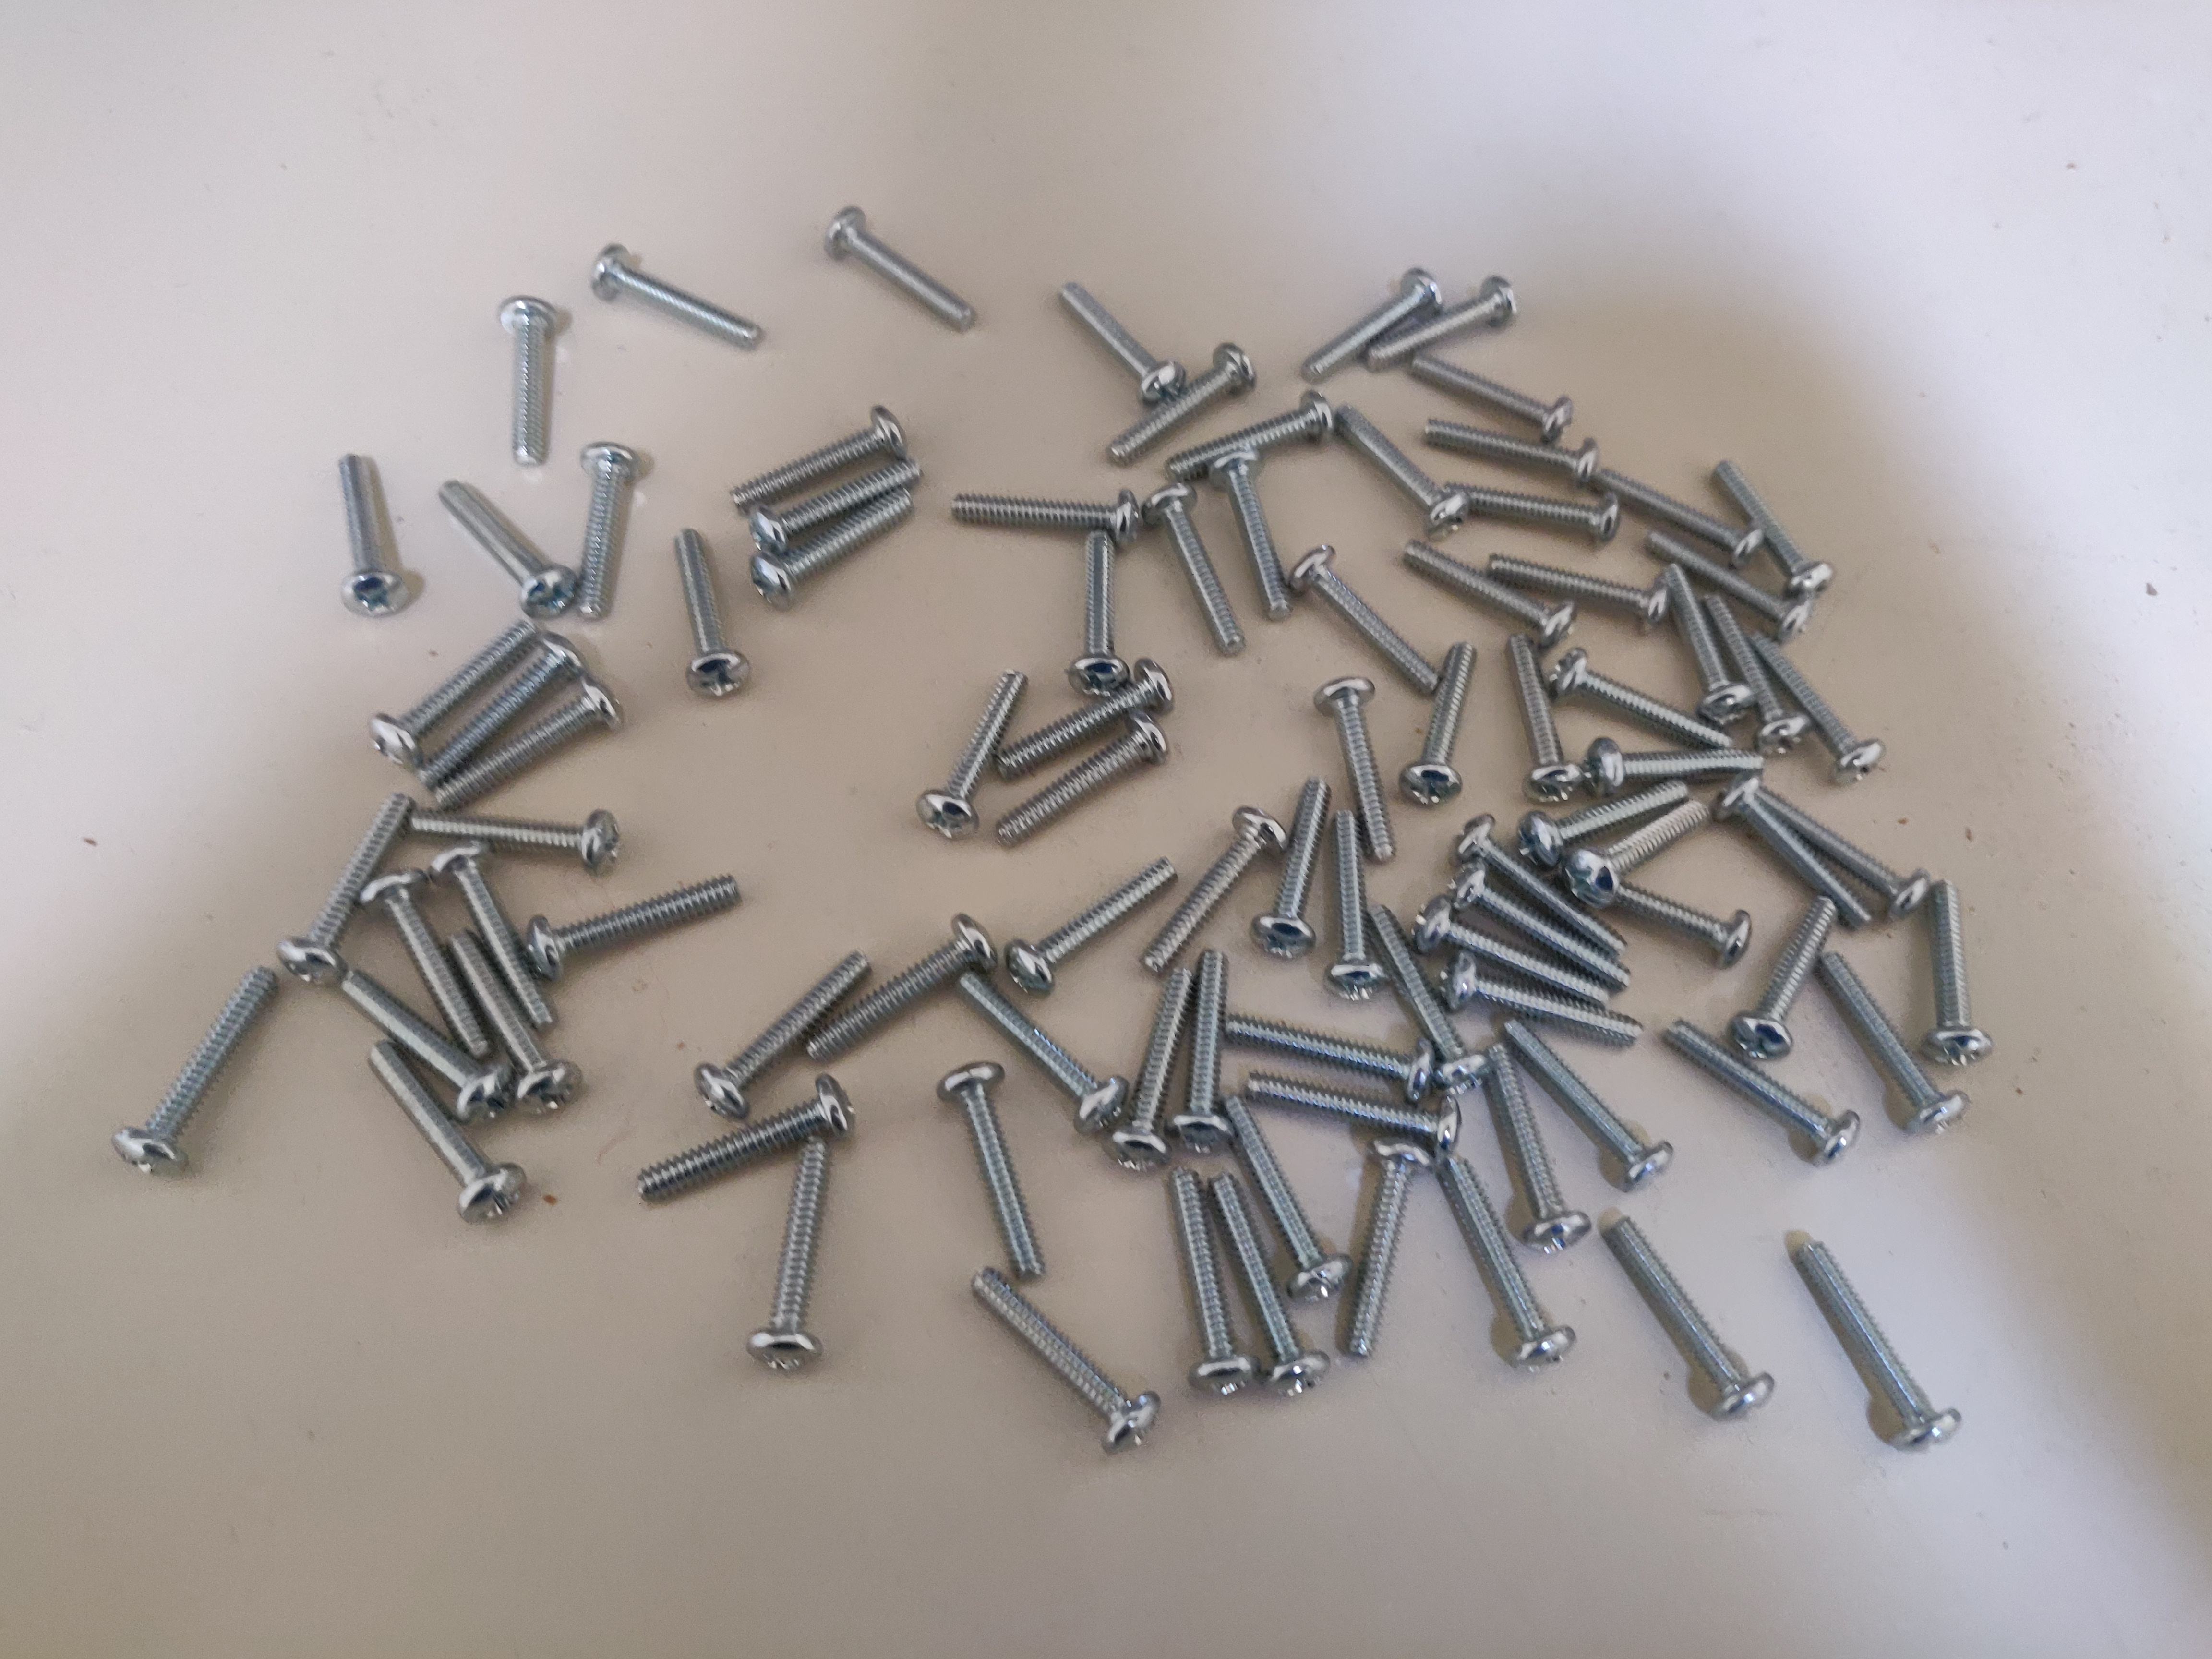longscrew: (1641, 979, 1857, 1157), (1590, 1218, 1775, 1417), (106, 967, 277, 1175), (1785, 1243, 1954, 1450), (949, 1283, 1160, 1446), (700, 945, 873, 1117), (1420, 1159, 1562, 1366), (1454, 791, 1634, 955), (1191, 1171, 1318, 1401), (1214, 1089, 1348, 1307), (1489, 1014, 1658, 1183), (324, 969, 512, 1121), (1818, 927, 1954, 1131), (942, 974, 1123, 1126), (1413, 885, 1625, 1014), (368, 1044, 528, 1215), (636, 1073, 853, 1197), (812, 906, 989, 1058), (1756, 763, 1933, 915), (279, 786, 418, 978), (1015, 833, 1176, 993), (1148, 1175, 1261, 1399), (930, 1068, 1047, 1283), (1460, 1047, 1588, 1241), (1437, 859, 1630, 988), (1273, 552, 1446, 695), (1721, 777, 1878, 934), (1547, 627, 1733, 758), (1564, 829, 1745, 964), (420, 638, 580, 788), (368, 619, 529, 767), (430, 845, 566, 1021), (361, 870, 495, 1047), (448, 660, 608, 809), (449, 925, 583, 1101), (1353, 903, 1482, 1084), (1740, 857, 1850, 1070), (1134, 809, 1282, 965), (1437, 938, 1655, 1044), (1752, 615, 1892, 781), (1000, 714, 1169, 849), (1216, 995, 1437, 1093), (1244, 1063, 1465, 1161), (747, 1124, 831, 1373), (913, 669, 1026, 847), (1641, 526, 1815, 641), (1137, 474, 1245, 657), (754, 488, 918, 606), (533, 875, 738, 969), (1395, 538, 1580, 643), (1444, 451, 1629, 556), (833, 200, 977, 333), (1338, 1140, 1420, 1373), (1005, 655, 1170, 770), (1305, 681, 1404, 866), (1700, 586, 1810, 749), (1416, 390, 1601, 486), (1703, 460, 1836, 592), (1331, 383, 1456, 523), (1299, 260, 1440, 383), (428, 486, 566, 612), (1374, 253, 1515, 375), (592, 244, 772, 340), (1578, 465, 1775, 552), (1568, 779, 1707, 899), (1118, 964, 1198, 1169), (1489, 544, 1677, 631), (1120, 340, 1252, 464), (1911, 875, 1993, 1073), (1519, 779, 1702, 868), (1402, 345, 1568, 441), (756, 455, 921, 549), (735, 404, 894, 502), (1310, 802, 1383, 1007), (1157, 392, 1332, 476), (1648, 568, 1747, 716), (1207, 453, 1294, 615), (1254, 770, 1331, 951), (1489, 629, 1568, 803), (1047, 284, 1172, 392), (667, 521, 742, 692), (415, 798, 617, 861), (1062, 523, 1129, 706), (1580, 728, 1784, 788), (1177, 950, 1238, 1147), (329, 451, 401, 619), (1411, 622, 1475, 805), (954, 483, 1134, 540), (503, 293, 556, 467), (577, 444, 627, 619)
